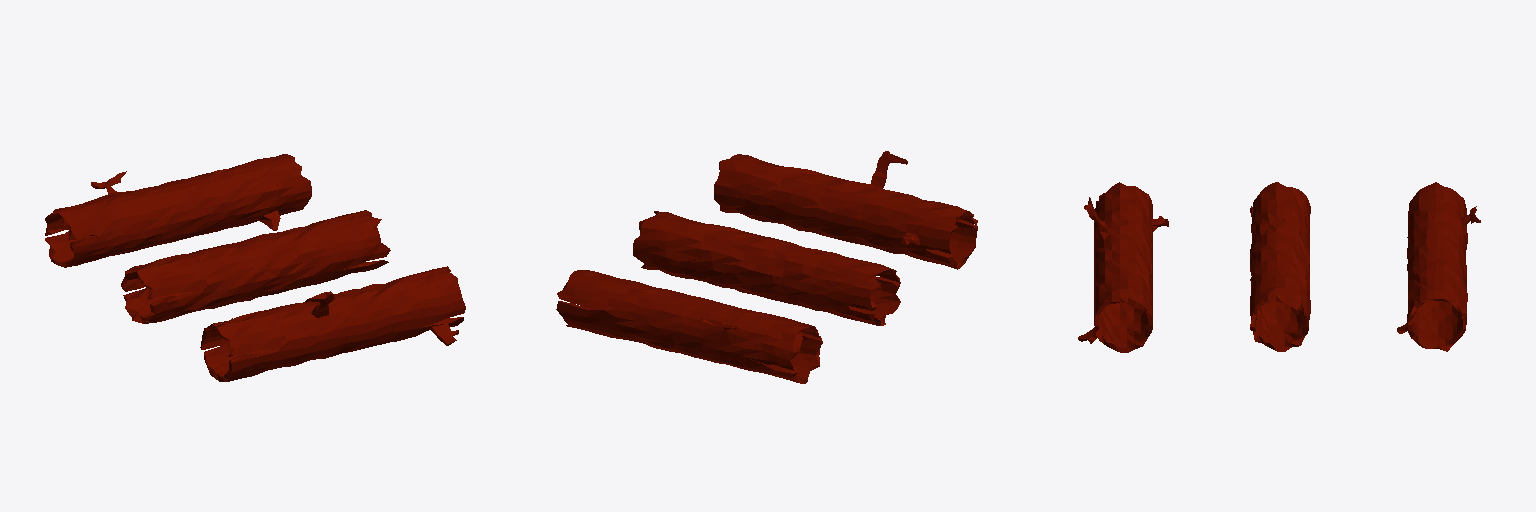
Rendered from log.obj.
The picture shows the model from 3 angles: view 1: azimuth 30°, elevation 25°; view 2: azimuth 150°, elevation 25°; view 3: azimuth 270°, elevation 25°; orthographic projection.
Visible parts, largest first — view 1: Tube003, Tube002, Tube001; view 2: Tube003, Tube001, Tube002; view 3: Tube003, Tube002, Tube001.
Boxes of the visible parts, box(x1,y1,x2,y2) form: Tube003: box(200, 266, 465, 381); Tube002: box(45, 154, 311, 267); Tube001: box(121, 210, 390, 323); Tube003: box(714, 151, 977, 269); Tube001: box(633, 211, 900, 325); Tube002: box(556, 270, 822, 383); Tube003: box(1078, 182, 1168, 352); Tube002: box(1397, 182, 1480, 351); Tube001: box(1250, 182, 1310, 351).
Size of the model in its own units: 89.25 by 28.02 by 127.